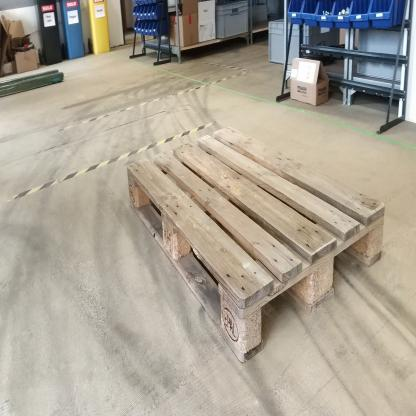BoxFace: (125, 119, 391, 375)
